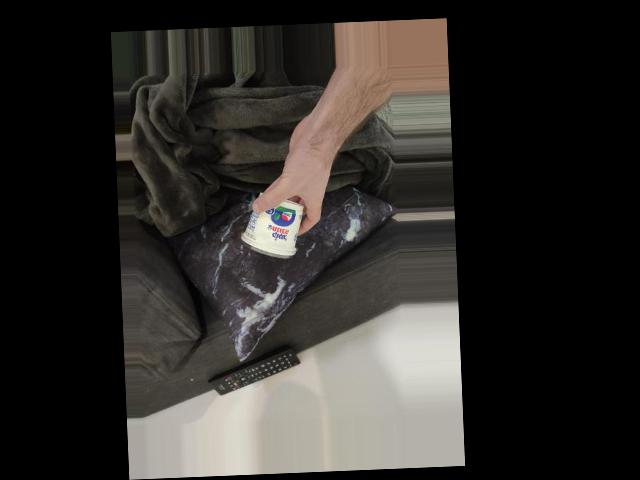cotage: (236, 182, 313, 267)
